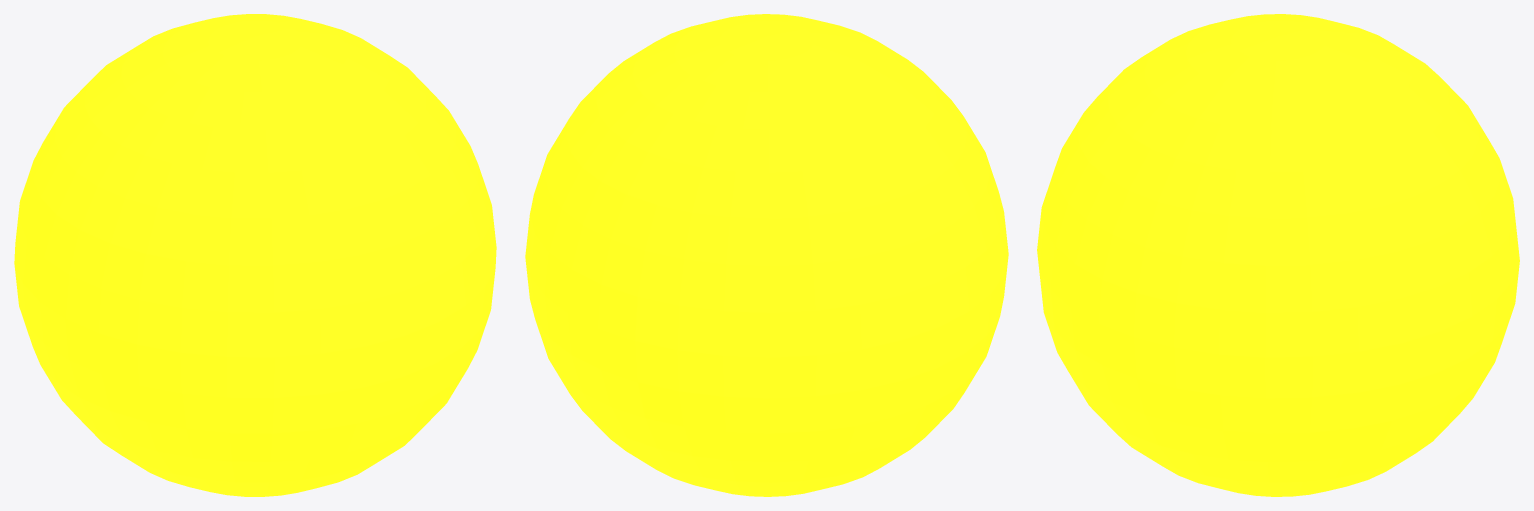
The picture shows the model from 3 angles, left to right: view 1: azimuth 30°, elevation 25°; view 2: azimuth 150°, elevation 25°; view 3: azimuth 270°, elevation 25°; orthographic projection.
Visible parts, largest first — view 1: Sphere.003; view 2: Sphere.003; view 3: Sphere.003.
Part boxes in pixels (x1,y1,x2,y2): Sphere.003: (14, 14, 496, 496); Sphere.003: (525, 14, 1008, 496); Sphere.003: (1037, 14, 1519, 496).
Bounding box in the file's own units: 0.0383 × 0.0383 × 0.0383.
